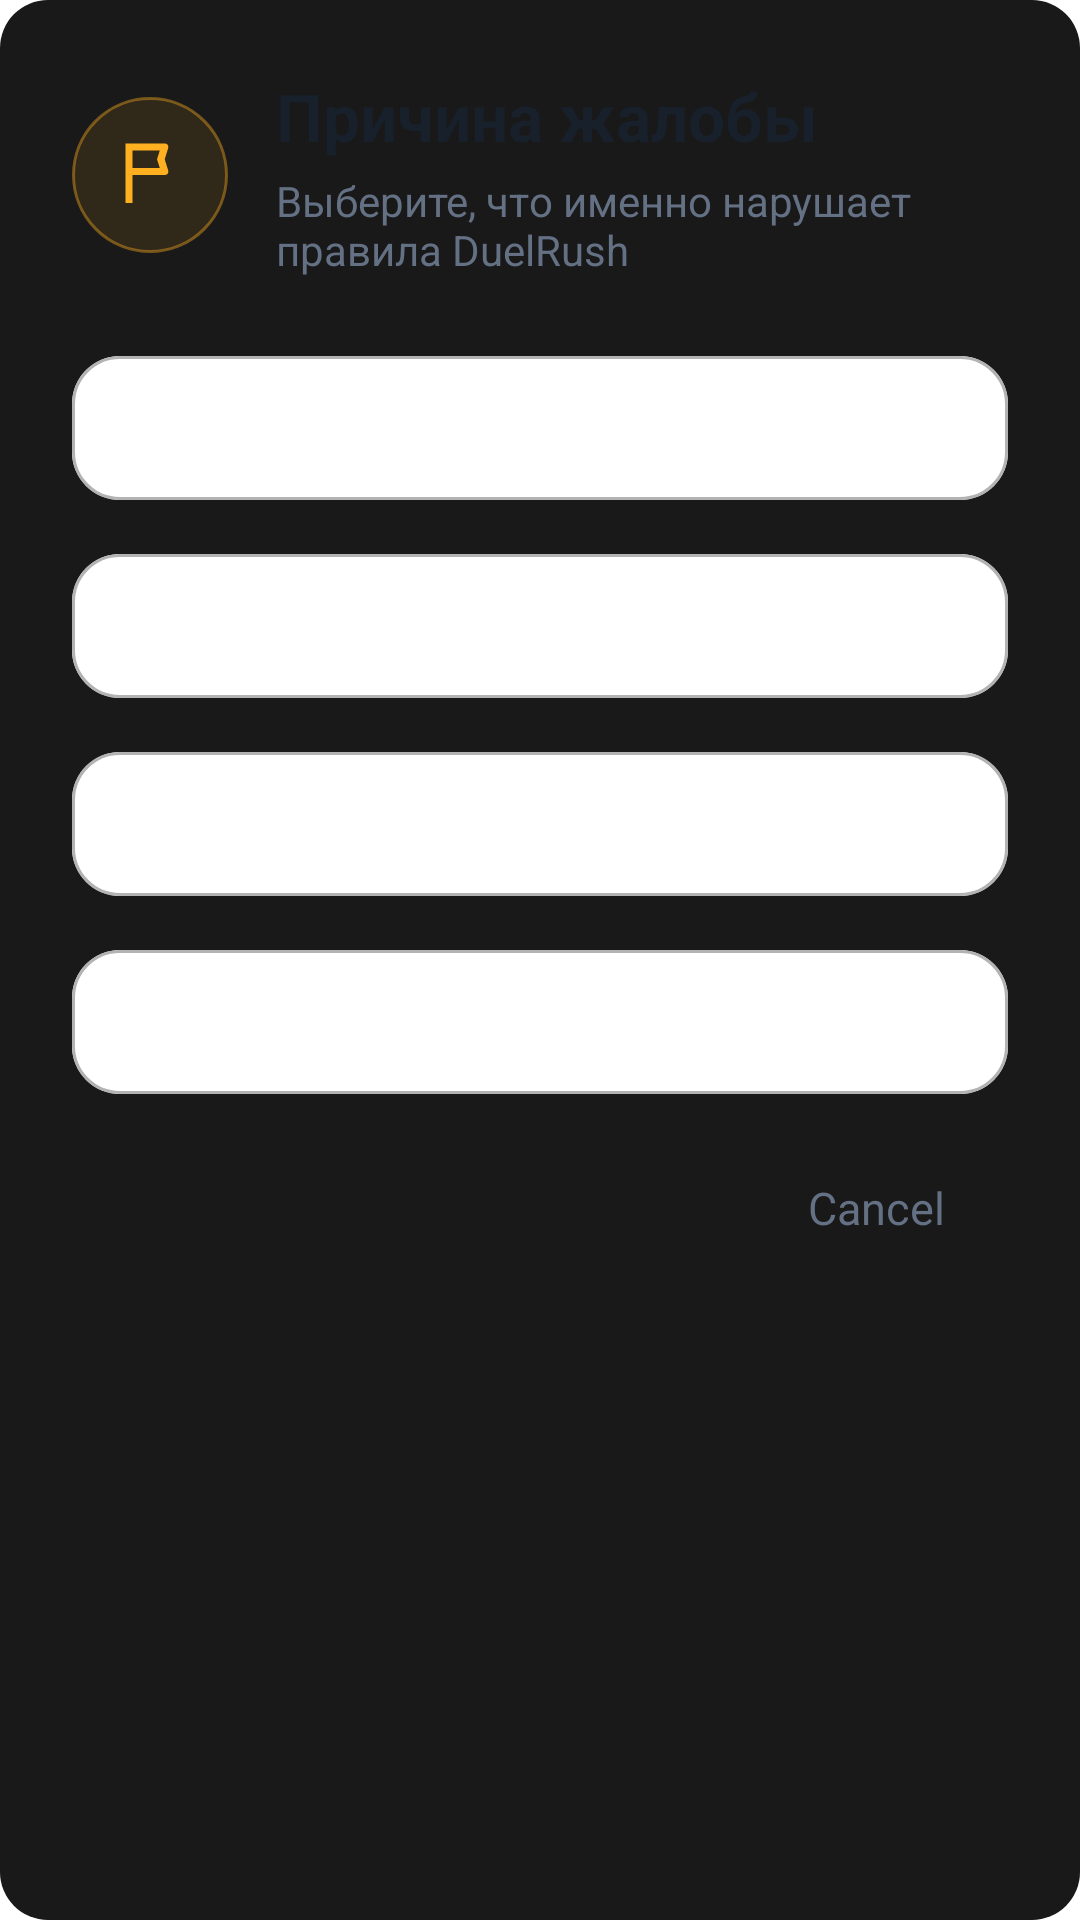

Icon click points for this 1080px x 1920px phone screenshot, format [x,y]:
report flag: [147,173]
